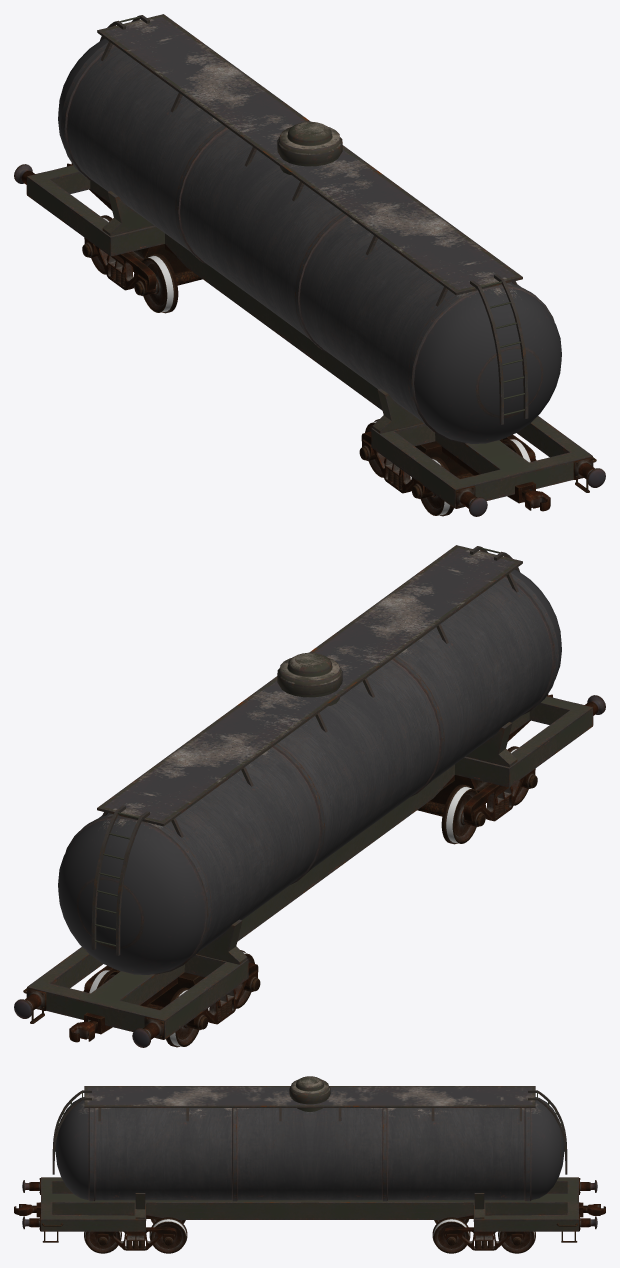
The model's file is SM_car3.gltf.
3 renders of one model, top to bottom at view 1: azimuth 30°, elevation 25°; view 2: azimuth 150°, elevation 25°; view 3: azimuth 270°, elevation 25°, orthographic. The views are drawn at different scales.
Visible parts, largest first — view 1: SM_car3; view 2: SM_car3; view 3: SM_car3.
Part boxes in pixels (box(x1,y1,x2,y2)): SM_car3: box(14, 14, 605, 516); SM_car3: box(14, 545, 605, 1047); SM_car3: box(14, 1076, 605, 1253).
Size of the model in its own units: 3.14 by 5.16 by 17.18.
Materials: 2 (2 with a texture image).
